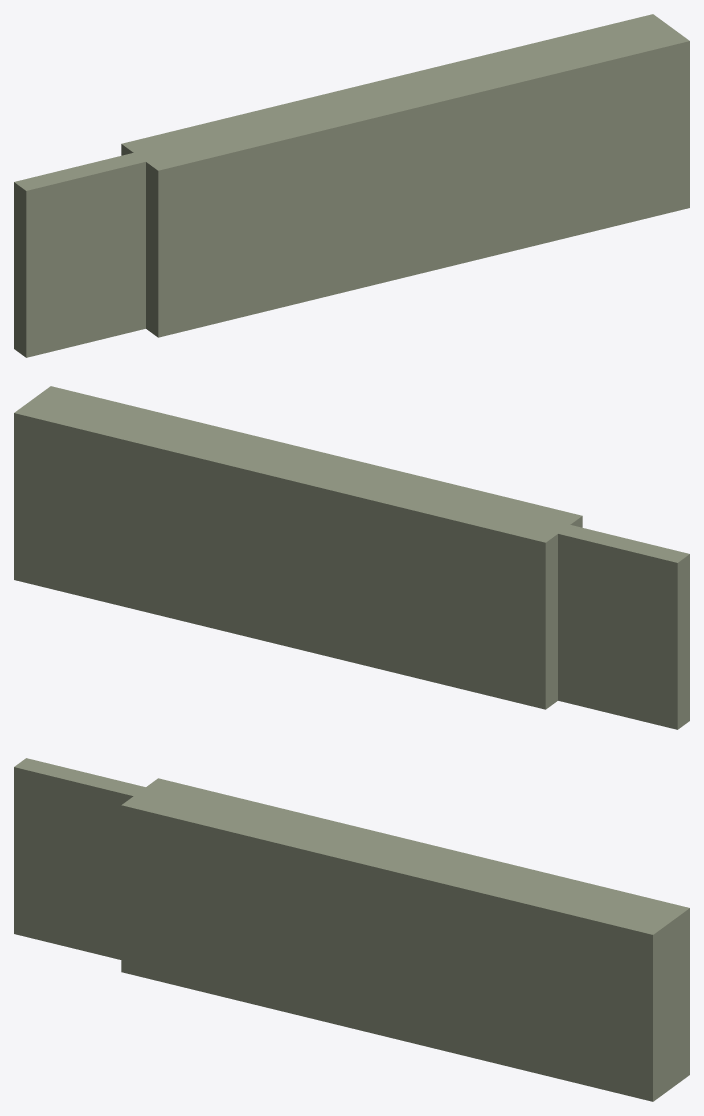
The model's file is lake-golyan-shallows-0.glb.
3 views of the same model, one above another, from view 1: azimuth 30°, elevation 25°; view 2: azimuth 150°, elevation 25°; view 3: azimuth 330°, elevation 25° (orthographic).
Parts seen in each view (by area): view 1: body, tail; view 2: body, tail; view 3: body, tail.
Boxes of the visible parts, x1,y1,x2,y2 form: body: (121, 14, 689, 337); tail: (14, 150, 158, 357); body: (14, 386, 582, 709); tail: (545, 521, 689, 729); body: (121, 778, 689, 1101); tail: (14, 758, 158, 959).
Bounding box in the file's own units: 0.0858 × 0.021 × 0.0084.
